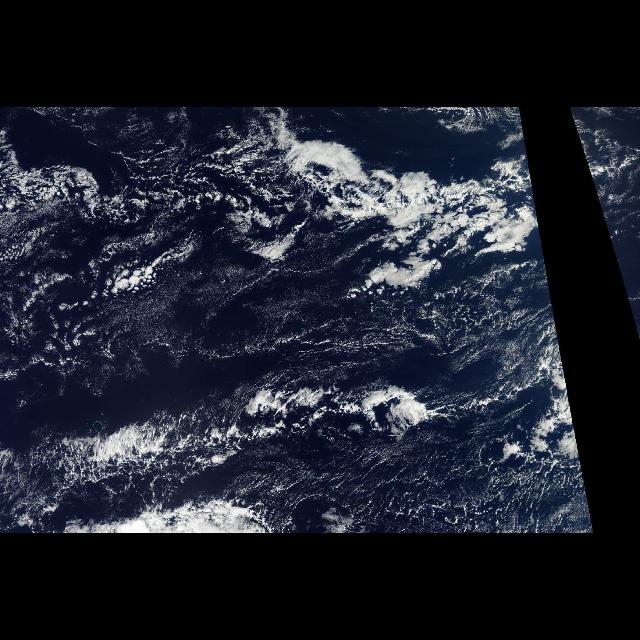Fish: (255, 122, 540, 288)
Gravel: (15, 143, 195, 299)
Sugar: (332, 300, 540, 392)
